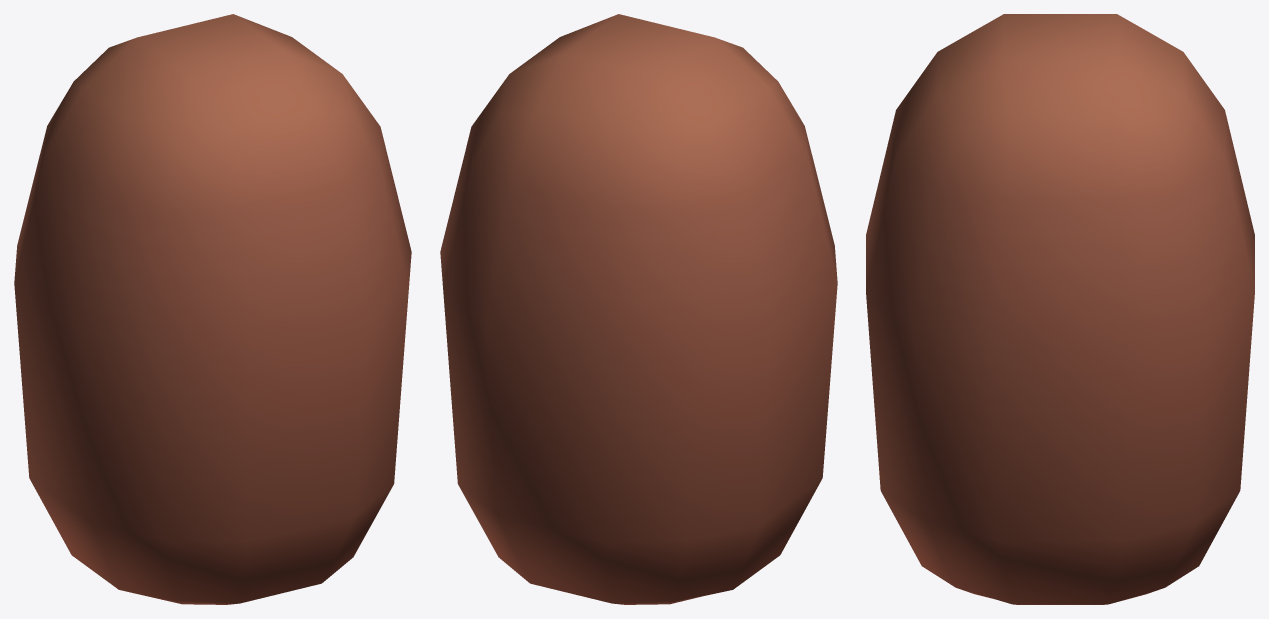
The model's file is Rock_6_C_Color2.fbx.
The picture shows the model from 3 angles, left to right: view 1: azimuth 30°, elevation 25°; view 2: azimuth 150°, elevation 25°; view 3: azimuth 270°, elevation 25°; orthographic projection. The views are drawn at different scales.
Visible parts, largest first — view 1: Rock_6_C_Color2; view 2: Rock_6_C_Color2; view 3: Rock_6_C_Color2.
Boxes of the visible parts, box(x1,y1,x2,y2) form: Rock_6_C_Color2: box(14, 14, 411, 604); Rock_6_C_Color2: box(440, 14, 837, 604); Rock_6_C_Color2: box(866, 14, 1254, 604).
Bounding box in the file's own units: 0.6495 × 0.9797 × 0.6495.
